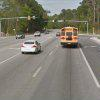Bus: (59, 24, 79, 49)
